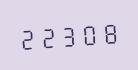eight: (98, 17, 117, 46)
three: (58, 20, 77, 49)
two: (18, 23, 37, 52), (38, 22, 57, 50)
zero: (78, 19, 97, 47)
